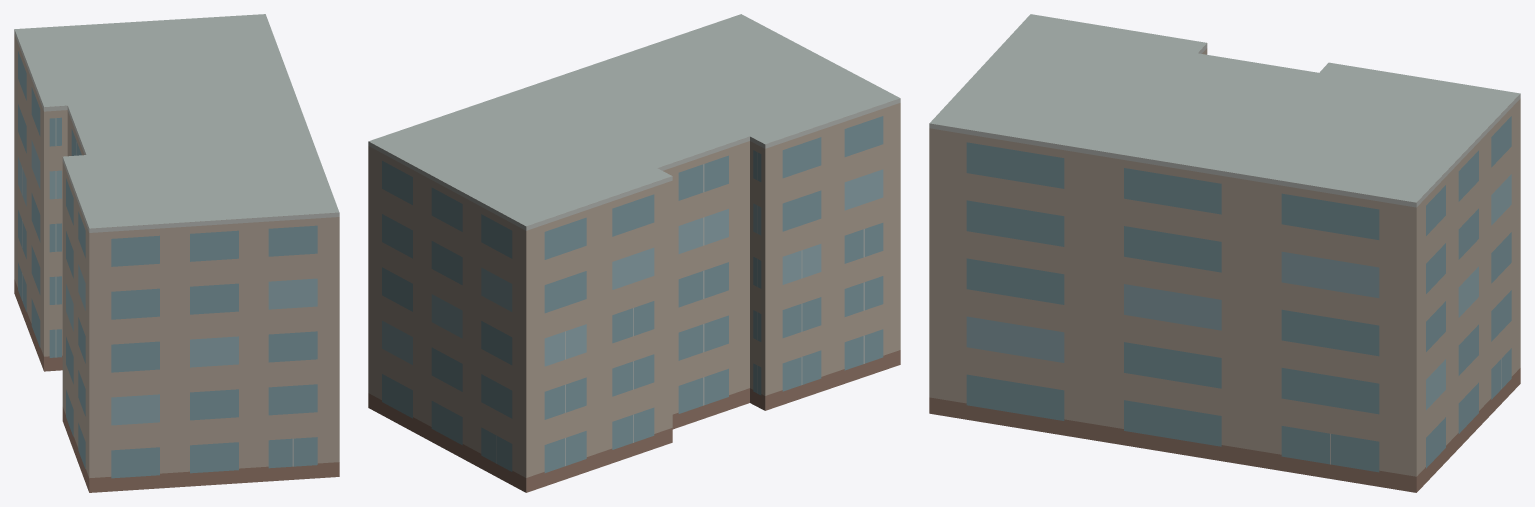
Rendered from survey-upis-32869770.glb.
3 renders of one model, left to right at view 1: azimuth 30°, elevation 25°; view 2: azimuth 150°, elevation 25°; view 3: azimuth 270°, elevation 25°, orthographic. The views are drawn at different scales.
Visible parts, largest first — view 1: survey-upis-32869770.tmp; view 2: survey-upis-32869770.tmp; view 3: survey-upis-32869770.tmp.
Part boxes in pixels (box(x1,y1,x2,y2)): survey-upis-32869770.tmp: box(14, 14, 339, 492); survey-upis-32869770.tmp: box(368, 14, 900, 492); survey-upis-32869770.tmp: box(929, 14, 1520, 492).
Bounding box in the file's own units: 20.22 × 14.5 × 26.78.
